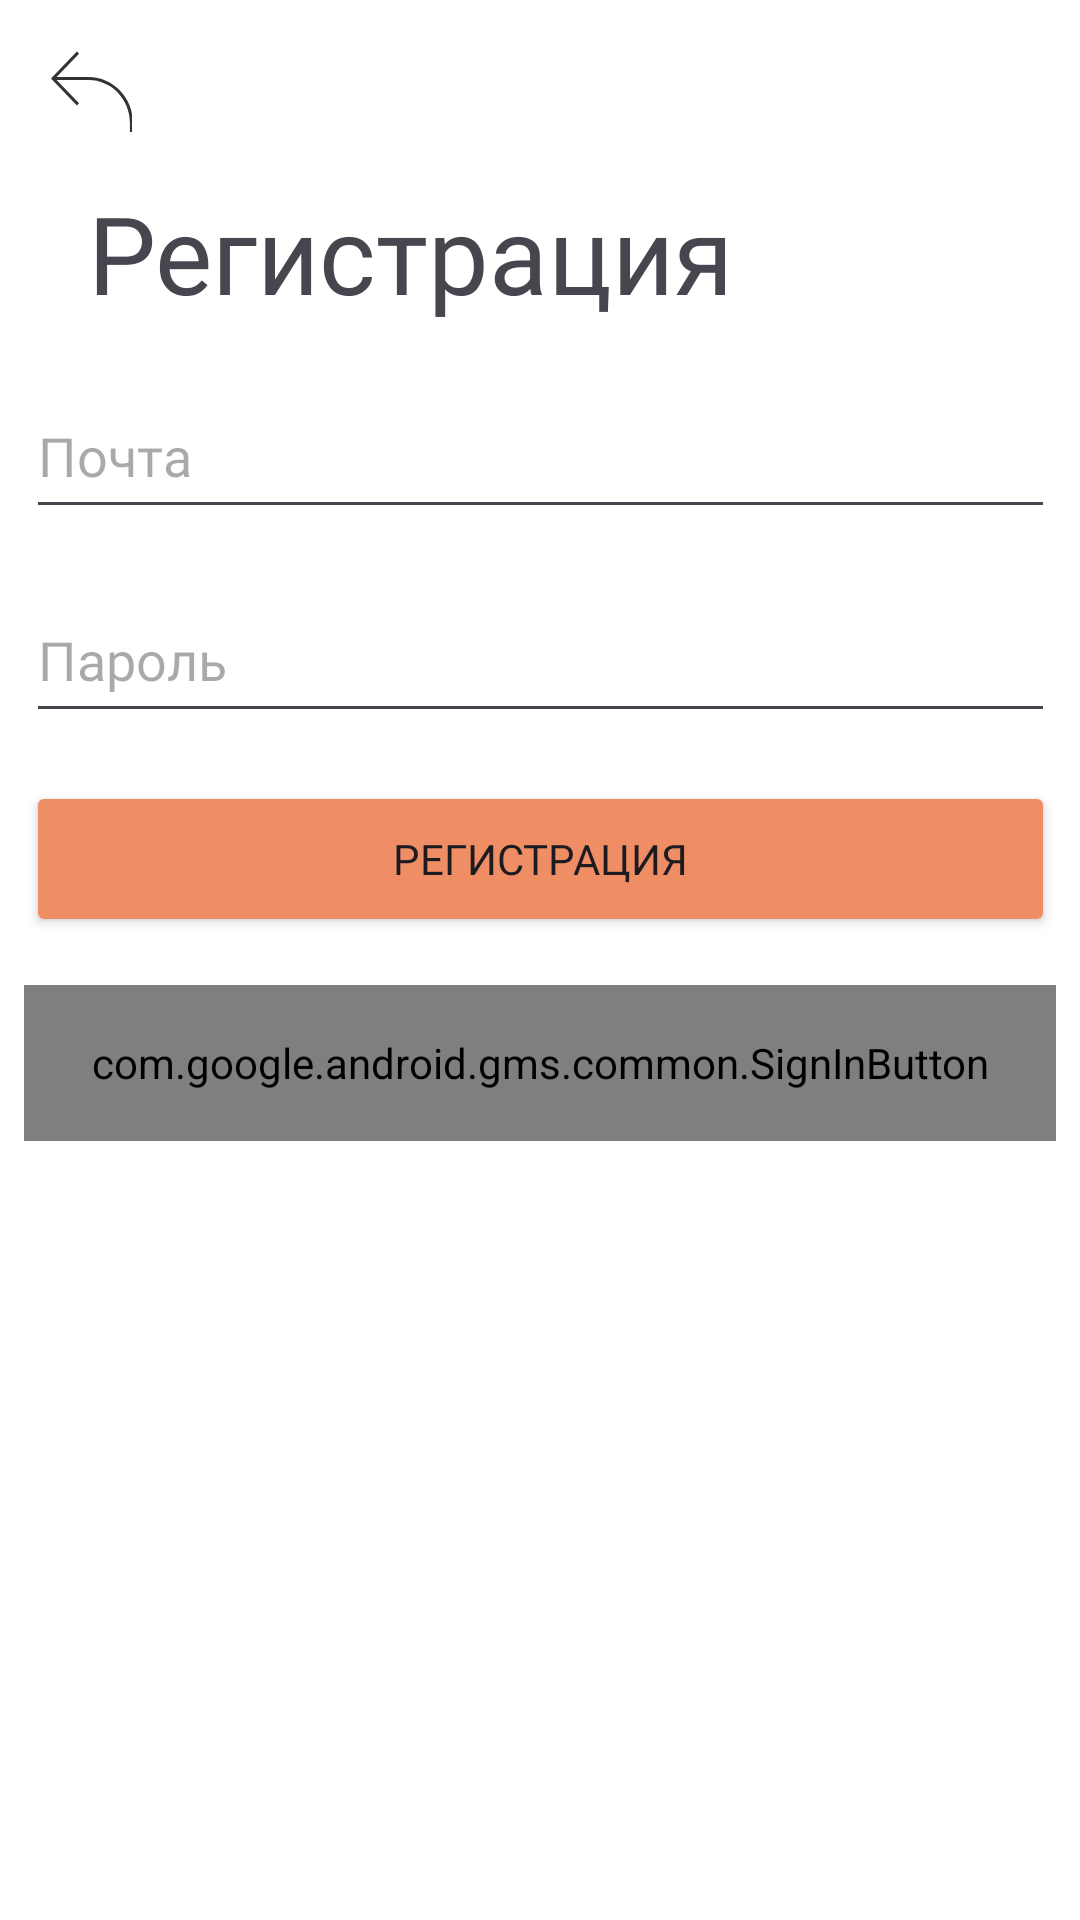

Screen size 1080 x 1920. Icon name, then its box in pixels as (x1, y1, x2, y2):
exit arrow back: (51, 51, 132, 132)
